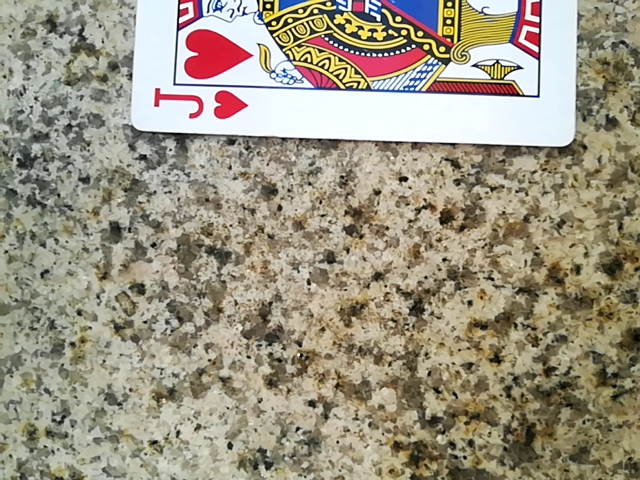hx j: (130, 0, 587, 163)
